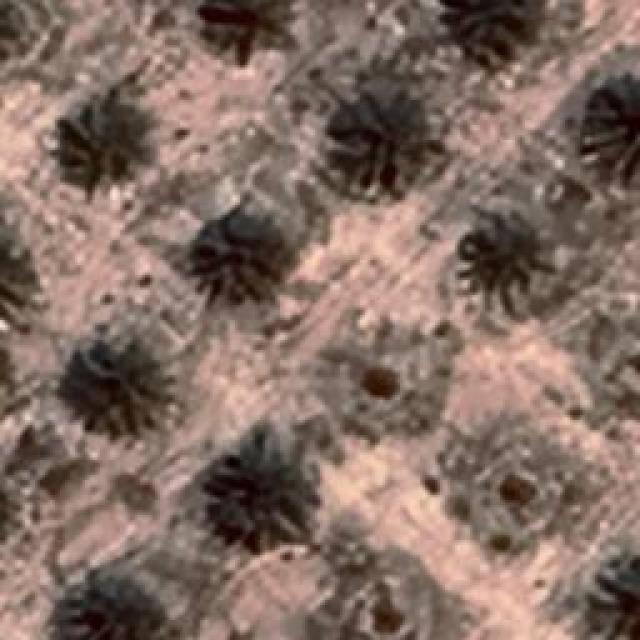PalmTree: (16, 33, 115, 610), (208, 432, 320, 550), (60, 335, 170, 440), (48, 94, 150, 198), (457, 205, 555, 313), (337, 88, 435, 190), (188, 208, 290, 302), (445, 0, 555, 62), (578, 72, 638, 182), (200, 0, 295, 55), (590, 550, 638, 638), (0, 220, 40, 322), (0, 0, 21, 68)
